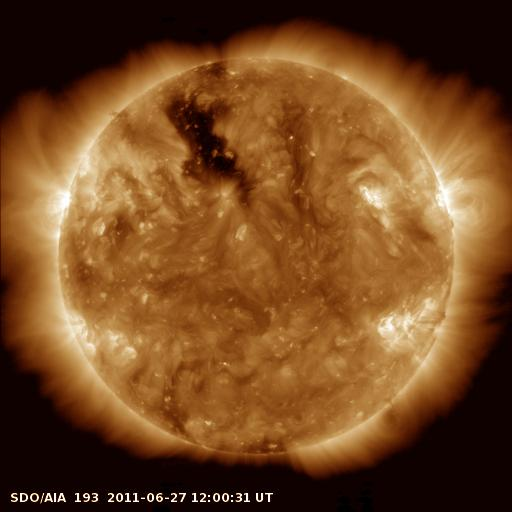coronal_hole: (155, 87, 263, 205)
